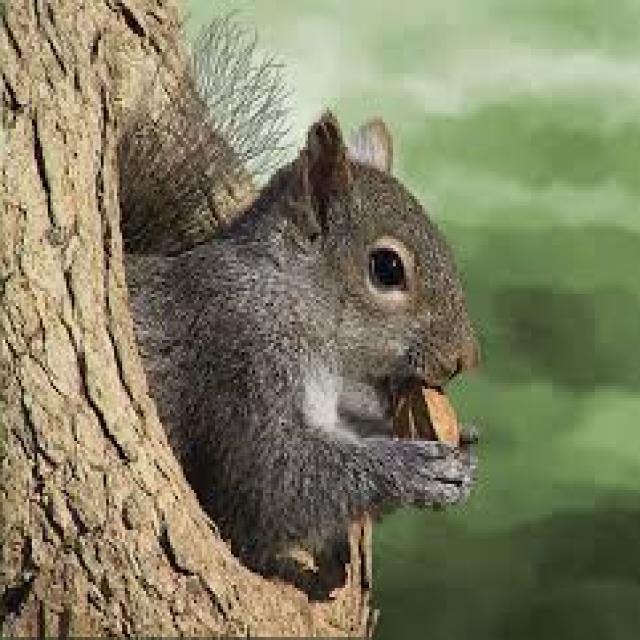Animals: (158, 76, 516, 548)
